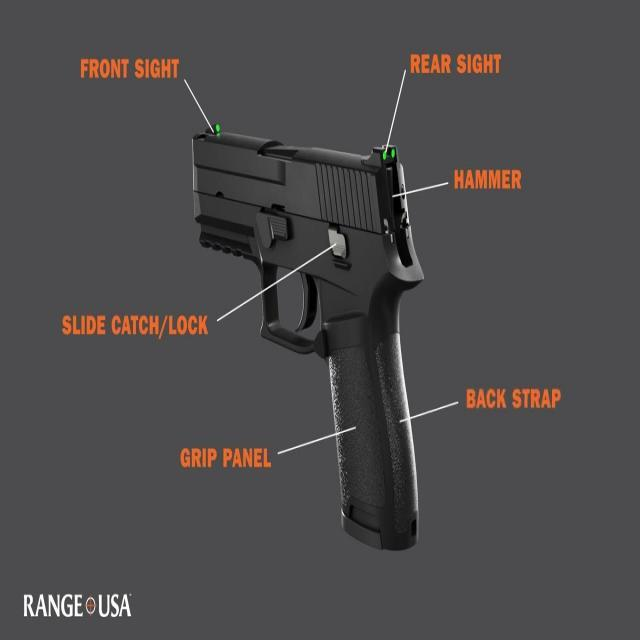pistol: (191, 119, 423, 547)
